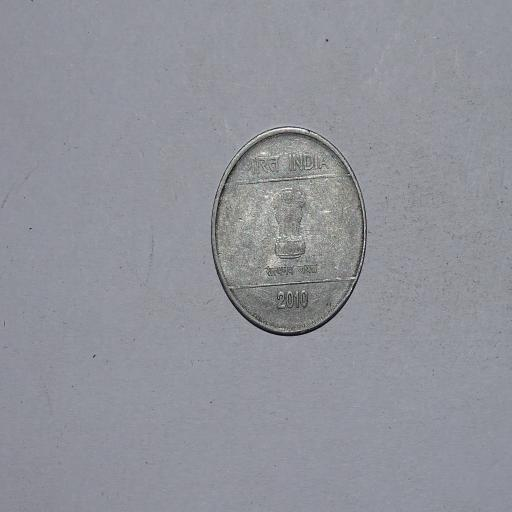rupee2: (203, 122, 366, 340)
